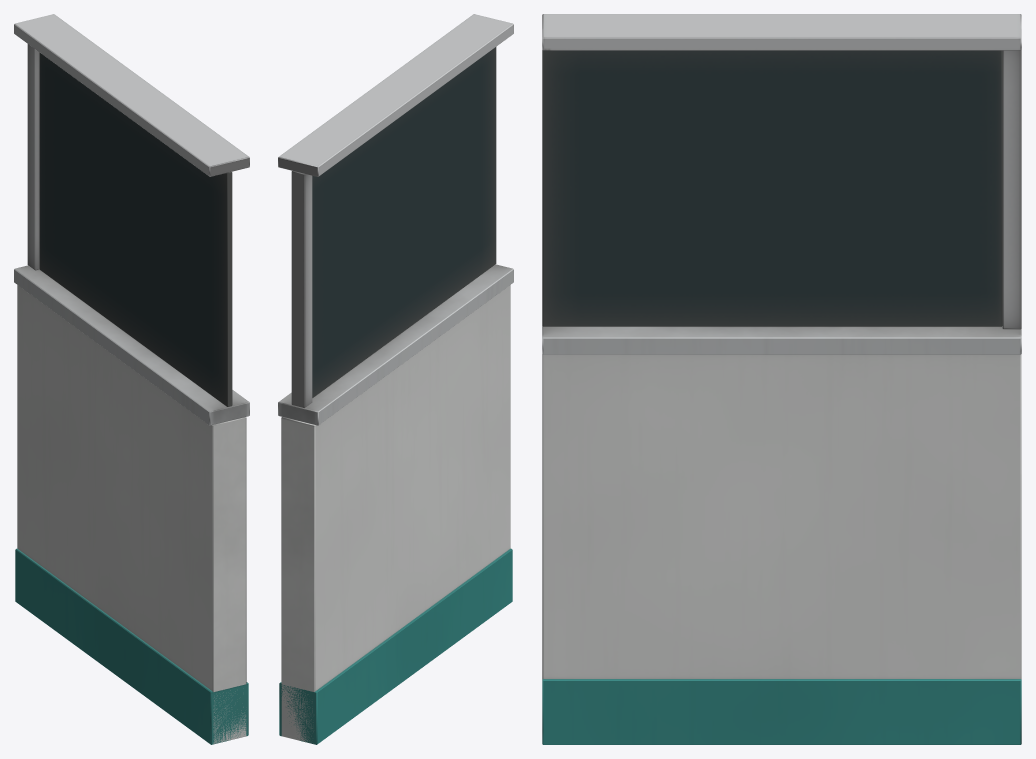
File: HWall_Glass.fbx
The picture shows the model from 3 angles, left to right: view 1: azimuth 30°, elevation 25°; view 2: azimuth 150°, elevation 25°; view 3: azimuth 270°, elevation 25°; orthographic projection. The views are drawn at different scales.
Visible parts, largest first — view 1: HWall_Glass_LOD0; view 2: HWall_Glass_LOD0; view 3: HWall_Glass_LOD0.
Boxes of the visible parts, bbox=[...] form: HWall_Glass_LOD0: bbox=[14, 14, 249, 744]; HWall_Glass_LOD0: bbox=[278, 14, 513, 744]; HWall_Glass_LOD0: bbox=[542, 14, 1021, 744].
Size of what is drawn, in the model's own units: 0.12 by 1.63 by 1.
Materials: 1 (1 with a texture image).
